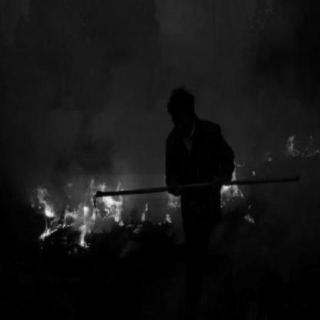Fire: (221, 172, 247, 206), (160, 192, 182, 228)
